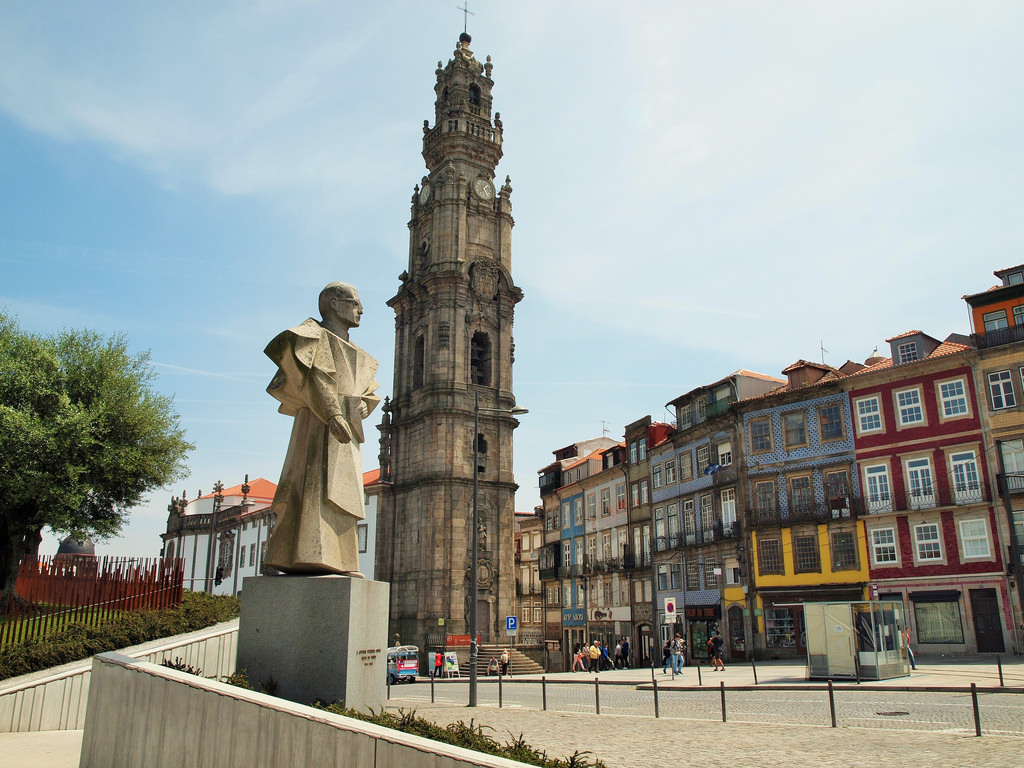clerigos: (375, 2, 524, 644)
